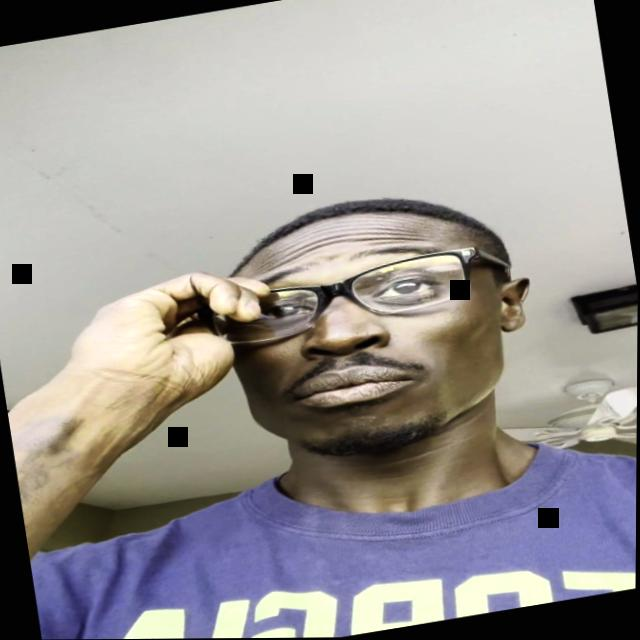NO-Mask: (194, 185, 542, 497)
